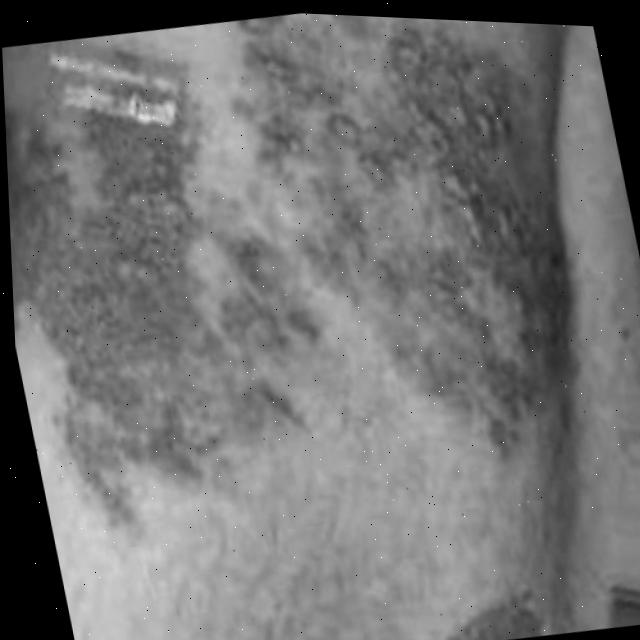Shingles: (227, 10, 586, 476), (2, 52, 332, 534)
